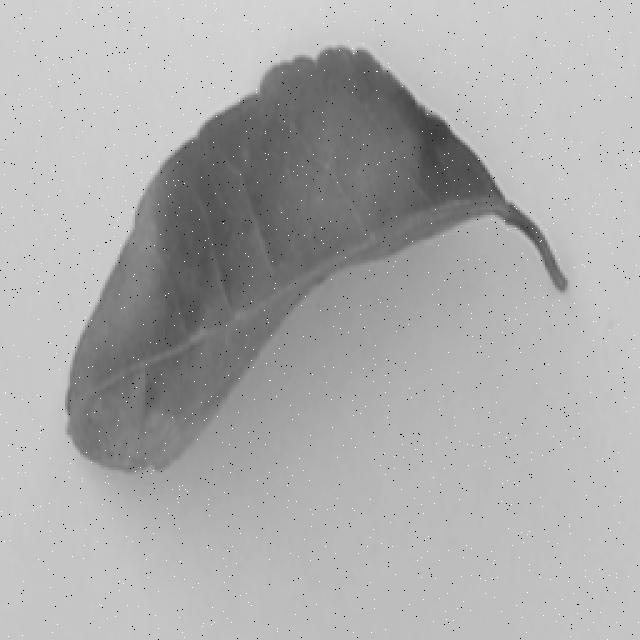greening: (62, 49, 552, 486)
